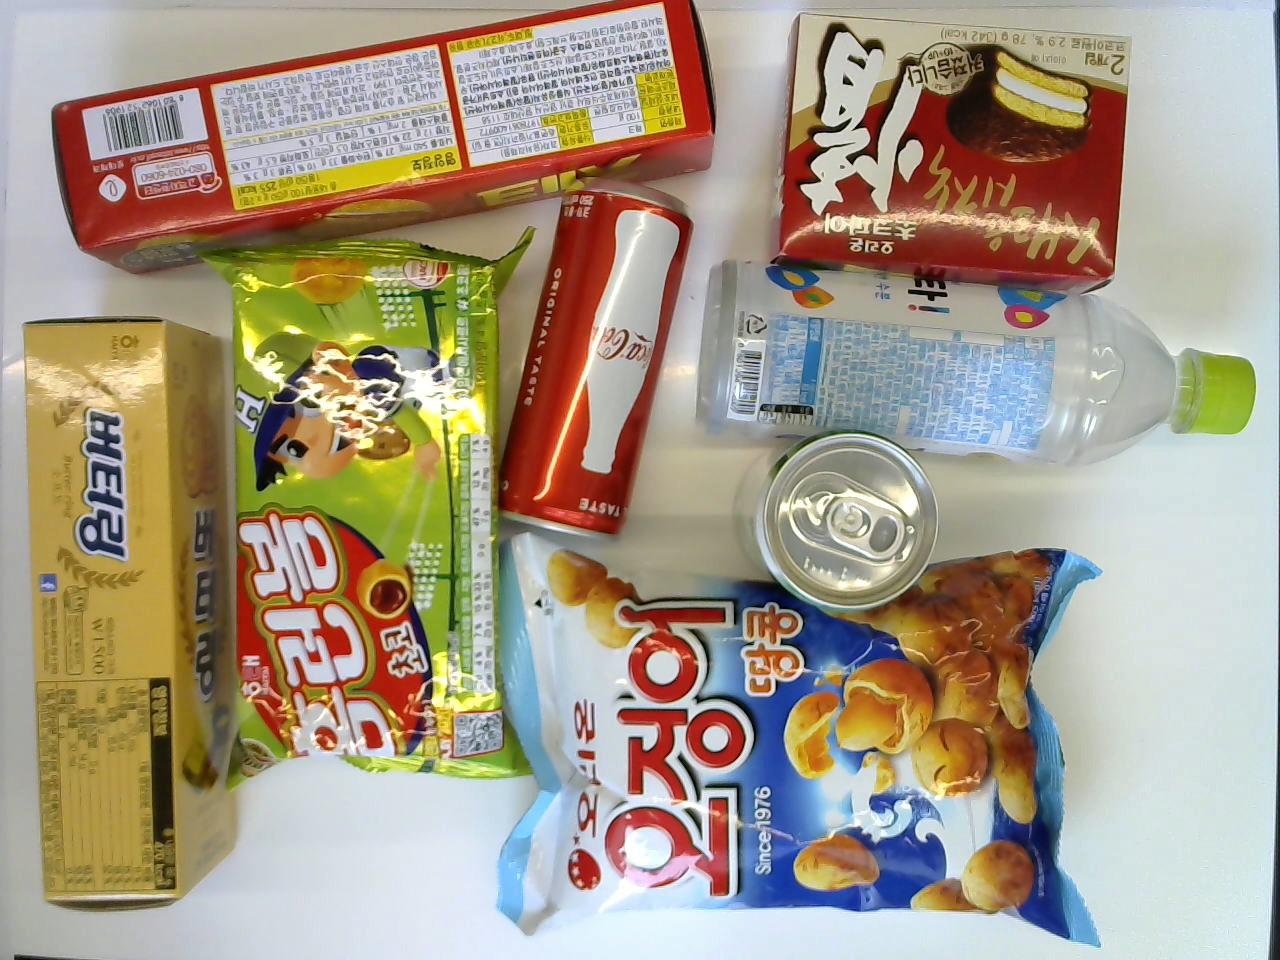buttering: (22, 318, 237, 911)
chocopie: (768, 8, 1135, 299)
cidar: (731, 432, 939, 610)
coke: (496, 176, 691, 543)
homerunball: (222, 228, 536, 792)
squid_peanut: (492, 527, 1101, 952)
toreta: (692, 259, 1256, 471)
zec: (48, 0, 716, 276)
